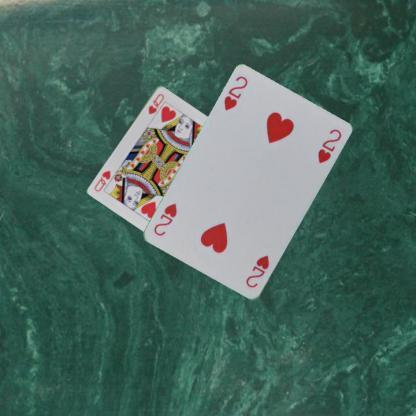2h: (221, 73, 249, 112), (244, 253, 271, 290)
Qh: (146, 90, 166, 116)
